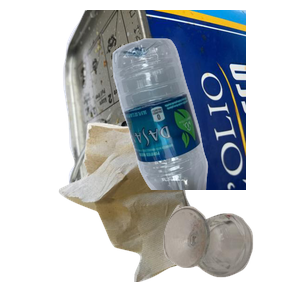glass: (161, 202, 300, 300)
metal: (60, 10, 300, 190)
plastic: (110, 36, 300, 216)
trash: (56, 120, 247, 300)
